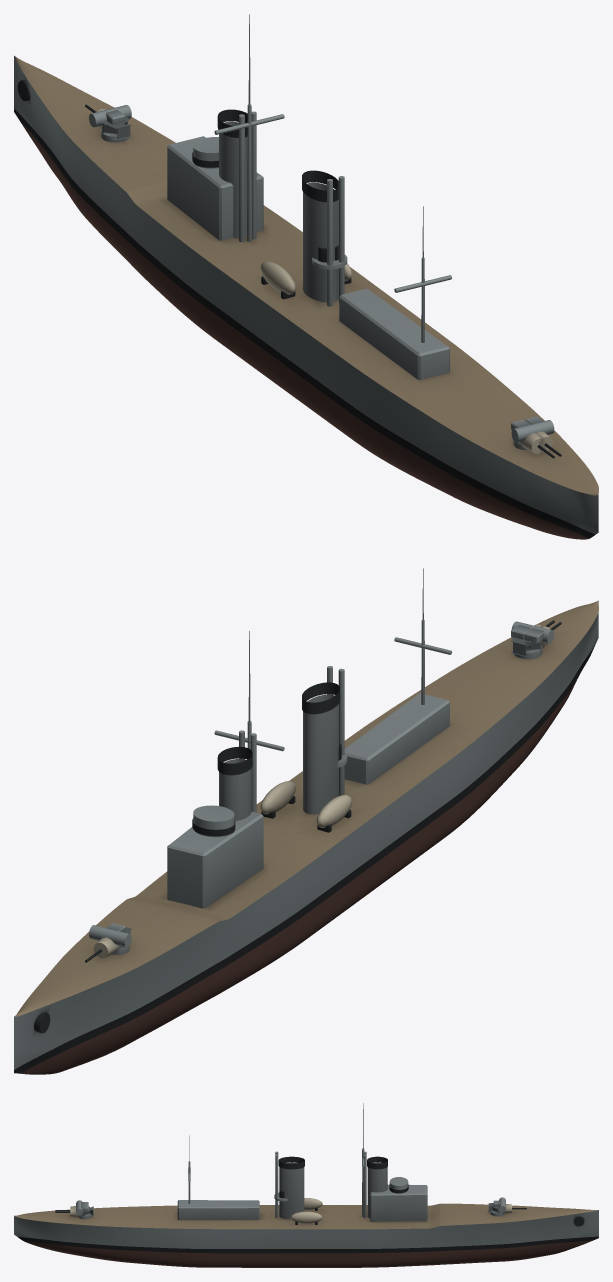
The model's file is hms-laurel.glb.
3 renders of one model, top to bottom at view 1: azimuth 30°, elevation 25°; view 2: azimuth 150°, elevation 25°; view 3: azimuth 270°, elevation 25°, orthographic. The views are drawn at different scales.
Parts seen in each view (by area): view 1: hms-laurel; view 2: hms-laurel; view 3: hms-laurel.
Part boxes in pixels (bbox=[...]): hms-laurel: bbox=[14, 14, 598, 539]; hms-laurel: bbox=[14, 568, 598, 1074]; hms-laurel: bbox=[14, 1103, 598, 1267].
Size of the model in its own units: 8.24 by 24.2 by 81.9.
